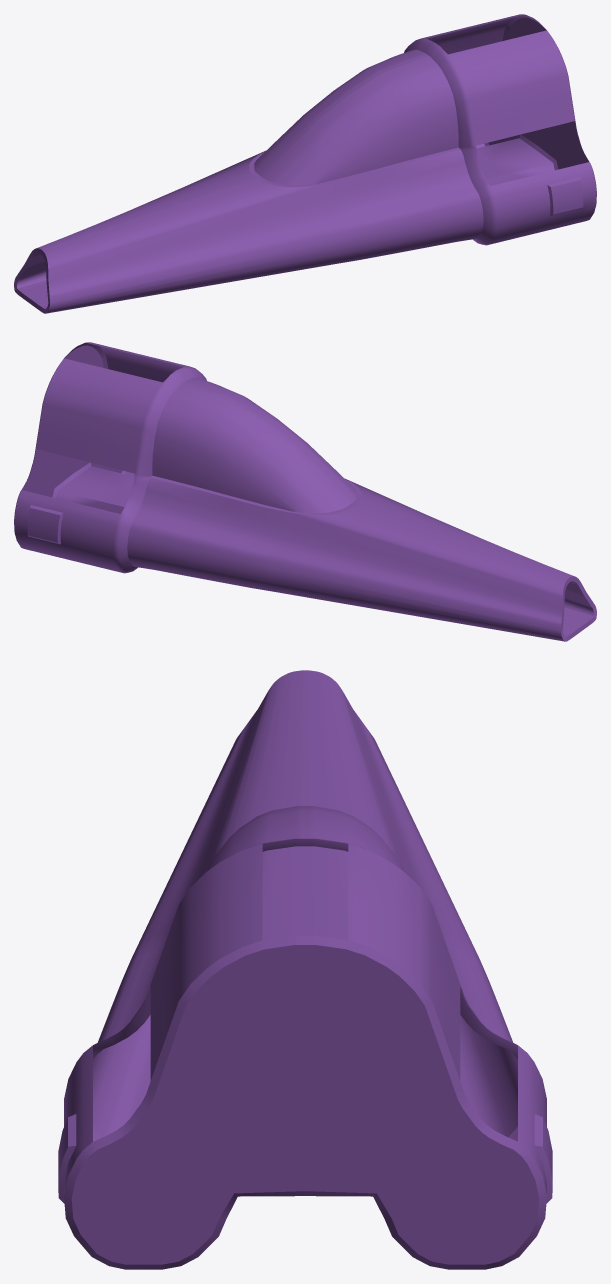
File: Ship Body.fbx
3 views of the same model, one above another, from view 1: azimuth 30°, elevation 25°; view 2: azimuth 150°, elevation 25°; view 3: azimuth 270°, elevation 25° (orthographic). The views are drawn at different scales.
Visible parts, largest first — view 1: Ship_Body1; view 2: Ship_Body1; view 3: Ship_Body1.
Boxes of the visible parts, x1,y1,x2,y2 form: Ship_Body1: (14, 14, 596, 313); Ship_Body1: (14, 342, 596, 641); Ship_Body1: (58, 670, 552, 1269).
Bounding box in the file's own units: 7.48 × 2.34 × 3.15.
